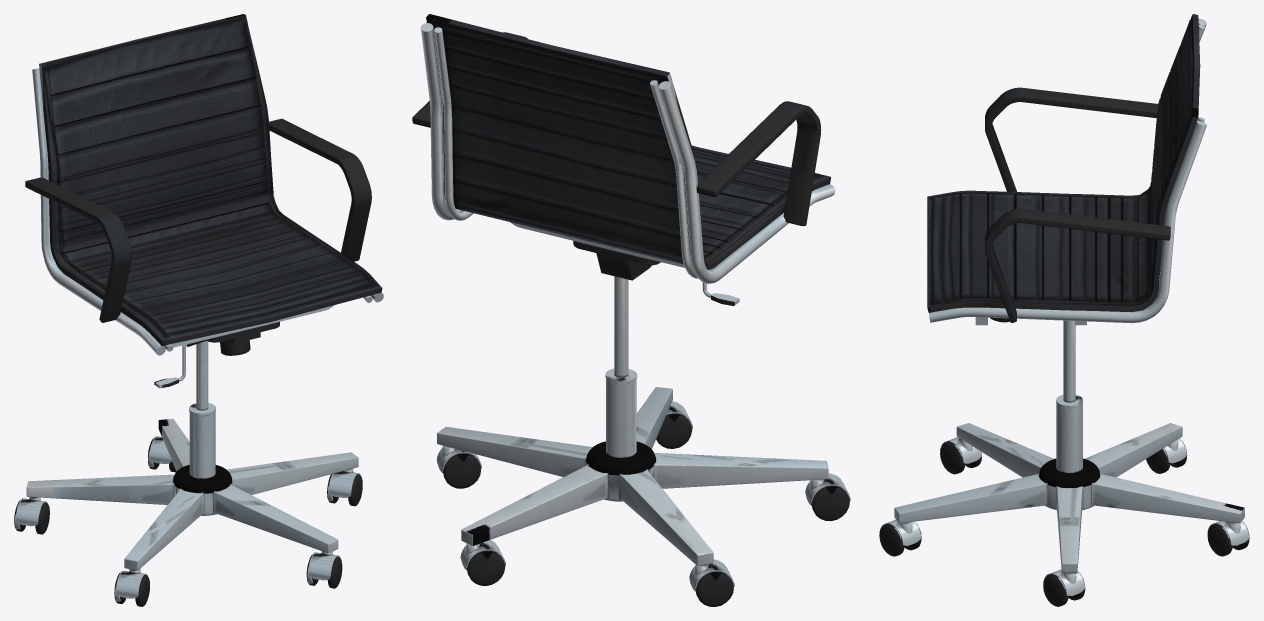
The model's file is luccra.glb.
3 renders of one model, left to right at view 1: azimuth 30°, elevation 25°; view 2: azimuth 150°, elevation 25°; view 3: azimuth 270°, elevation 25°, orthographic. The views are drawn at different scales.
Visible parts, largest first — view 1: luccra_black; view 2: luccra_black; view 3: luccra_black.
Part boxes in pixels (bbox=[...]): luccra_black: bbox=[14, 14, 383, 606]; luccra_black: bbox=[412, 14, 850, 606]; luccra_black: bbox=[879, 14, 1249, 606].
Size of the model in its own units: 0.6018 by 0.8681 by 0.6238.
Materials: 1 (1 with a texture image).
